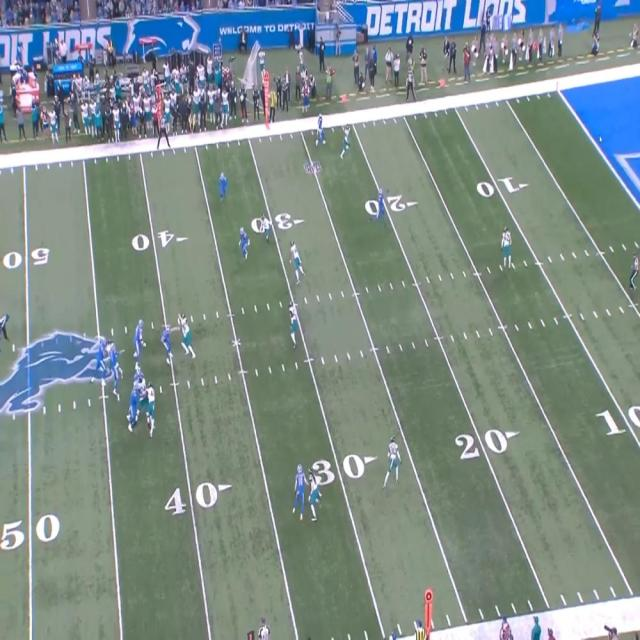db: (386, 438, 399, 480), (500, 225, 512, 268), (412, 619, 425, 639), (343, 124, 350, 158), (262, 214, 269, 243)
lb: (290, 244, 303, 281), (290, 300, 296, 346)
qb: (111, 342, 122, 394)
skill: (294, 466, 305, 516), (238, 227, 248, 259), (218, 172, 227, 200), (376, 189, 384, 218), (319, 114, 324, 143)
